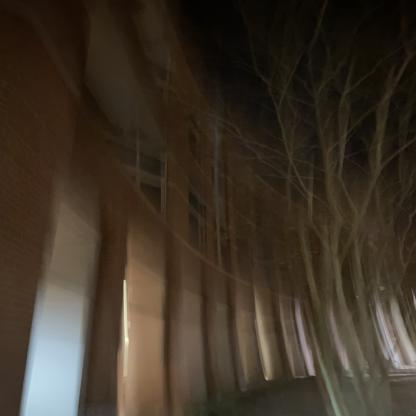eb2: (16, 9, 415, 378)
